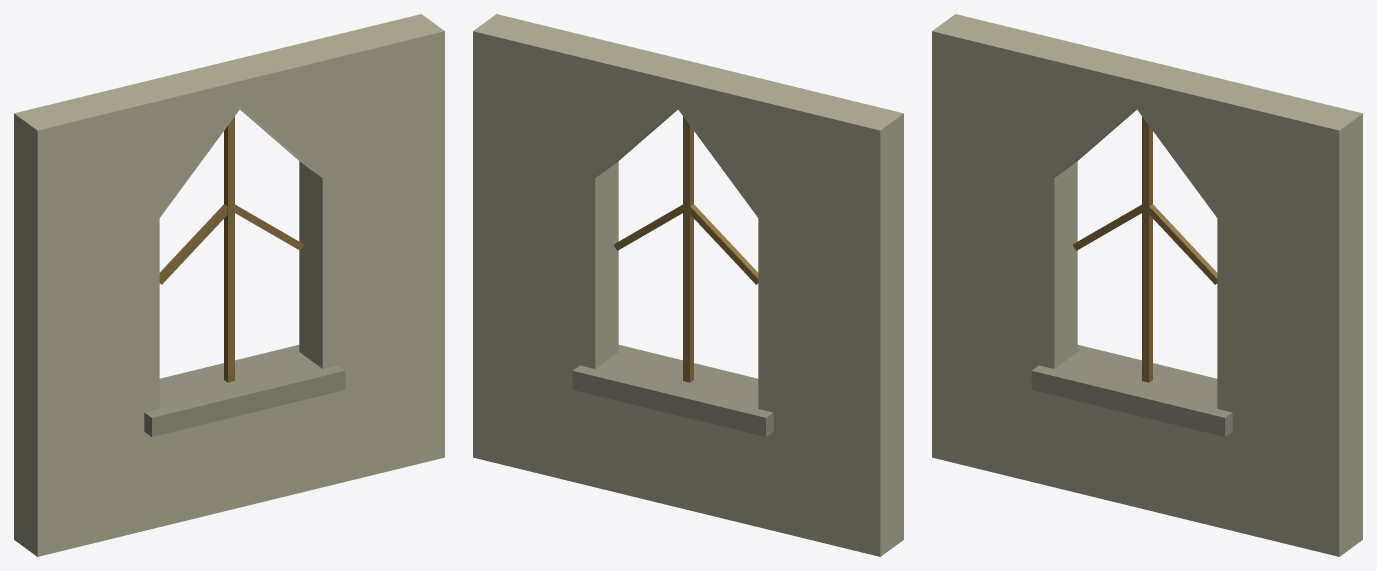
The model's file is WP_A12_wind_window_v02.glb.
The picture shows the model from 3 angles, left to right: view 1: azimuth 30°, elevation 25°; view 2: azimuth 150°, elevation 25°; view 3: azimuth 330°, elevation 25°; orthographic projection.
Visible parts, largest first — view 1: WindowWall; view 2: WindowWall; view 3: WindowWall.
Boxes of the visible parts, x1,y1,x2,y2 form: WindowWall: [14, 14, 444, 556]; WindowWall: [473, 14, 903, 556]; WindowWall: [932, 14, 1362, 556].
Bounding box in the file's own units: 4 × 4 × 0.65.
